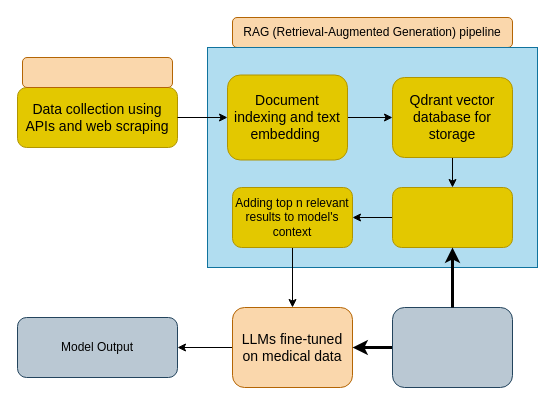
Some shapes in this 555 by 405 pixel diagram are drawn without their labels. The shapes that lost their labels are listed below. From the top down, each one's box as (x1, y1, x2, y2) in pixels, then its label:
(22, 56, 172, 88): Latest Medical Research
(392, 186, 512, 248): Retrieval of Query-related information and reranking
(392, 306, 512, 388): Doctor Query along with patient History
